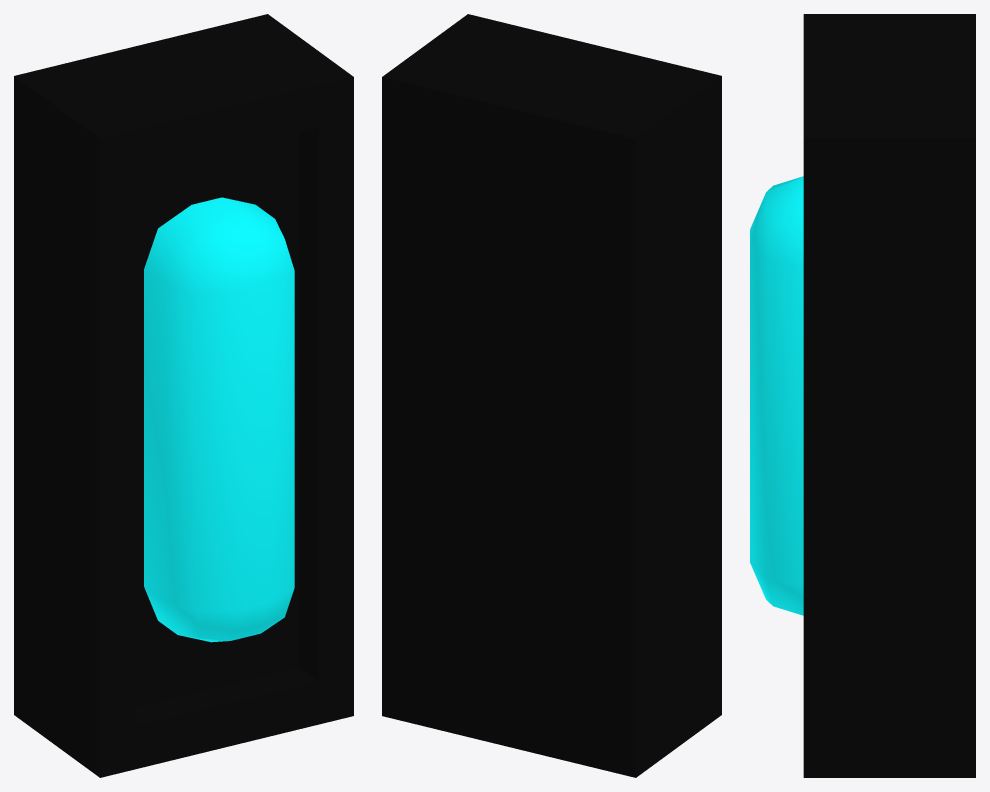
File: Lamp_Blue.glb
The picture shows the model from 3 angles, left to right: view 1: azimuth 30°, elevation 25°; view 2: azimuth 150°, elevation 25°; view 3: azimuth 270°, elevation 25°; orthographic projection.
Parts seen in each view (by area): view 1: Lamp; view 2: Lamp; view 3: Lamp.
Part boxes in pixels (<box>): Lamp: <box>14,14,353,777</box>; Lamp: <box>382,14,721,777</box>; Lamp: <box>750,14,975,777</box>.
Size of what is drawn, in the model's own units: 0.3973 by 0.9559 by 0.3059.
Materials: 1 (1 with a texture image).
